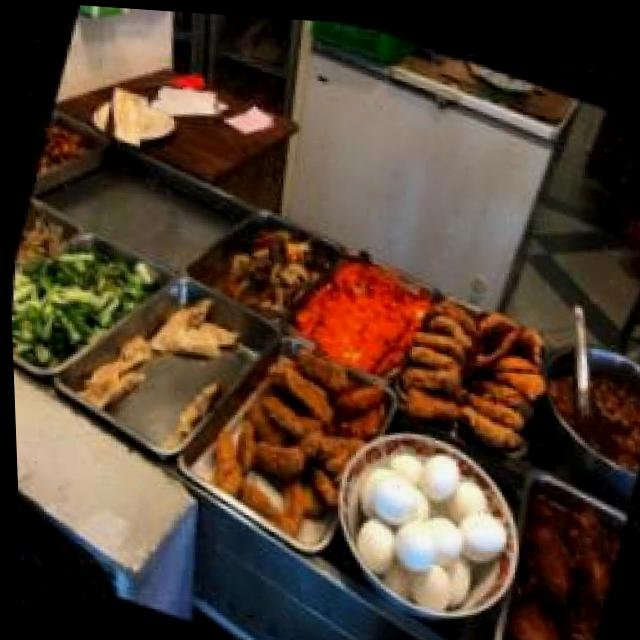carrot_eggs: (305, 249, 423, 380)
fried_dumplings: (146, 282, 233, 370)
fried_eggs: (97, 85, 157, 146)
mung_bean_sprouts: (13, 210, 63, 261)
